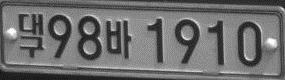0: (236, 20, 262, 67)
1: (144, 17, 171, 63), (205, 20, 231, 65)
8: (77, 14, 103, 60)
9: (174, 18, 200, 64), (47, 13, 72, 58)
대구_V: (18, 13, 44, 58)
바: (105, 20, 132, 59)
